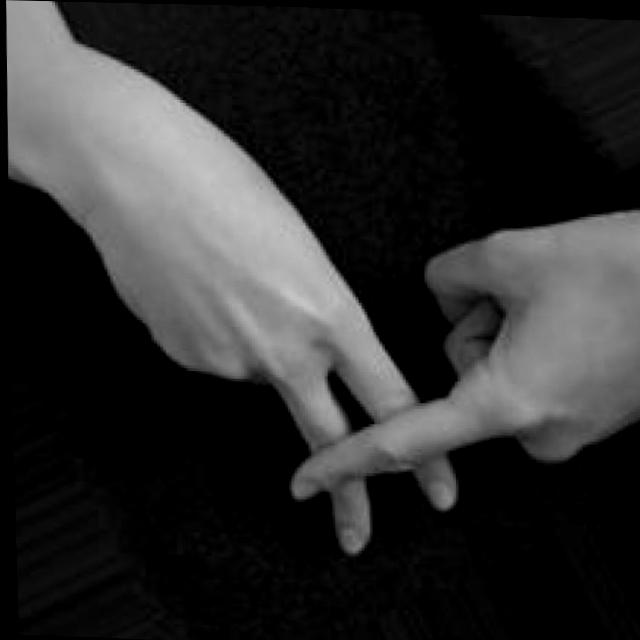A: (145, 180, 597, 568)
